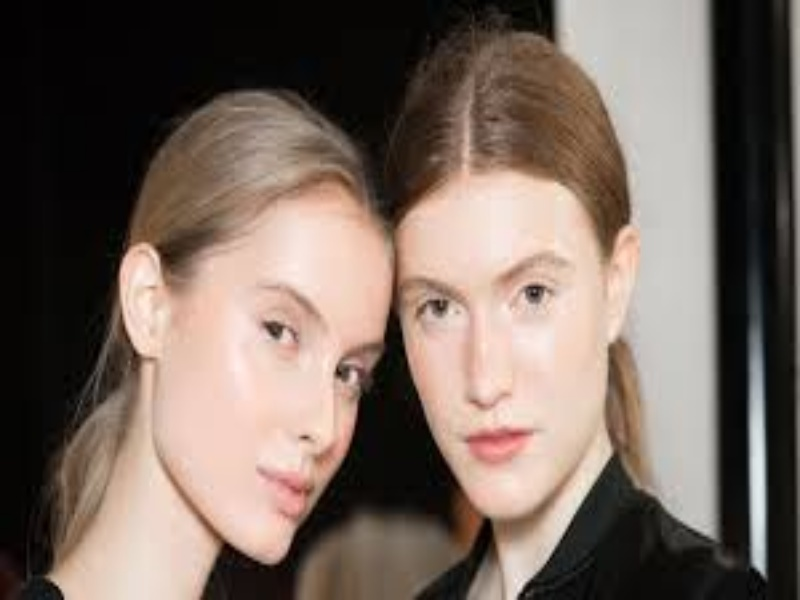face: (395, 247, 593, 470), (228, 248, 380, 538)
